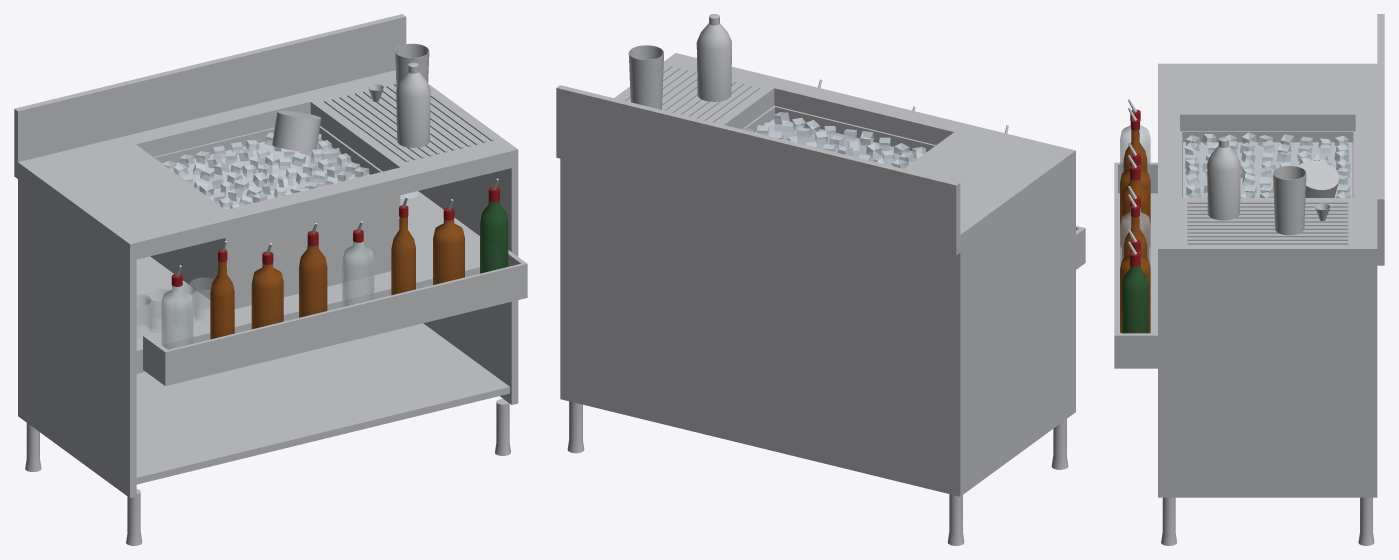
The model's file is station.glb.
3 renders of one model, left to right at view 1: azimuth 30°, elevation 25°; view 2: azimuth 150°, elevation 25°; view 3: azimuth 270°, elevation 25°, orthographic. The views are drawn at different scales.
Visible parts, largest first — view 1: Stainless station body, deck and drainboard - Stainless stee, Insulated ice well with ice - Stainless steel, brushed, Speed rail with bottles and pourers - Stainless steel, brush, Speed rail with bottles and pourers - Bottle glass, amber (a, Insulated ice well with ice - Ice (alpha-blended), Speed rail with bottles and pourers - Bottle glass, clear (a, Shaker, mixing tin, jigger and glasses - Stainless steel, br, Shaker, mixing tin, jigger and glasses - Glassware, clear (a, Speed rail with bottles and pourers - Bottle glass, green (a, Speed rail with bottles and pourers - Bottle caps and capsul; view 2: Stainless station body, deck and drainboard - Stainless stee, Shaker, mixing tin, jigger and glasses - Stainless steel, br, Insulated ice well with ice - Ice (alpha-blended), Insulated ice well with ice - Stainless steel, brushed; view 3: Stainless station body, deck and drainboard - Stainless stee, Insulated ice well with ice - Ice (alpha-blended), Insulated ice well with ice - Stainless steel, brushed, Shaker, mixing tin, jigger and glasses - Stainless steel, br, Speed rail with bottles and pourers - Stainless steel, brush, Speed rail with bottles and pourers - Bottle glass, amber (a, Speed rail with bottles and pourers - Bottle glass, green (a, Speed rail with bottles and pourers - Bottle glass, clear (a, Speed rail with bottles and pourers - Bottle caps and capsul, Speed rail with bottles and pourers - Chrome / polished bras.
Boxes of the visible parts, x1,y1,x2,y2 form: Stainless station body, deck and drainboard - Stainless stee: [14, 14, 518, 545]; Insulated ice well with ice - Stainless steel, brushed: [150, 110, 400, 309]; Speed rail with bottles and pourers - Stainless steel, brush: [143, 250, 527, 385]; Speed rail with bottles and pourers - Bottle glass, amber (a: [210, 217, 464, 339]; Insulated ice well with ice - Ice (alpha-blended): [162, 132, 369, 209]; Speed rail with bottles and pourers - Bottle glass, clear (a: [161, 241, 374, 349]; Shaker, mixing tin, jigger and glasses - Stainless steel, br: [368, 43, 430, 147]; Shaker, mixing tin, jigger and glasses - Glassware, clear (a: [136, 191, 418, 337]; Speed rail with bottles and pourers - Bottle glass, green (a: [480, 201, 508, 273]; Speed rail with bottles and pourers - Bottle caps and capsul: [171, 187, 499, 286]; Stainless station body, deck and drainboard - Stainless stee: [556, 53, 1075, 545]; Shaker, mixing tin, jigger and glasses - Stainless steel, br: [628, 14, 731, 109]; Insulated ice well with ice - Ice (alpha-blended): [755, 112, 926, 168]; Insulated ice well with ice - Stainless steel, brushed: [739, 105, 935, 164]; Stainless station body, deck and drainboard - Stainless stee: [1158, 14, 1384, 545]; Insulated ice well with ice - Ice (alpha-blended): [1183, 132, 1352, 197]; Insulated ice well with ice - Stainless steel, brushed: [1180, 131, 1355, 197]; Shaker, mixing tin, jigger and glasses - Stainless steel, br: [1207, 137, 1330, 235]; Speed rail with bottles and pourers - Stainless steel, brush: [1114, 162, 1157, 368]; Speed rail with bottles and pourers - Bottle glass, amber (a: [1120, 130, 1150, 333]; Speed rail with bottles and pourers - Bottle glass, green (a: [1122, 265, 1148, 333]; Speed rail with bottles and pourers - Bottle glass, clear (a: [1120, 121, 1150, 267]; Speed rail with bottles and pourers - Bottle caps and capsul: [1130, 109, 1140, 266]; Speed rail with bottles and pourers - Chrome / polished bras: [1128, 99, 1136, 254].
Size of the model in its own units: 1.2 by 1.13 by 0.74.
8 materials, 8 textured.
